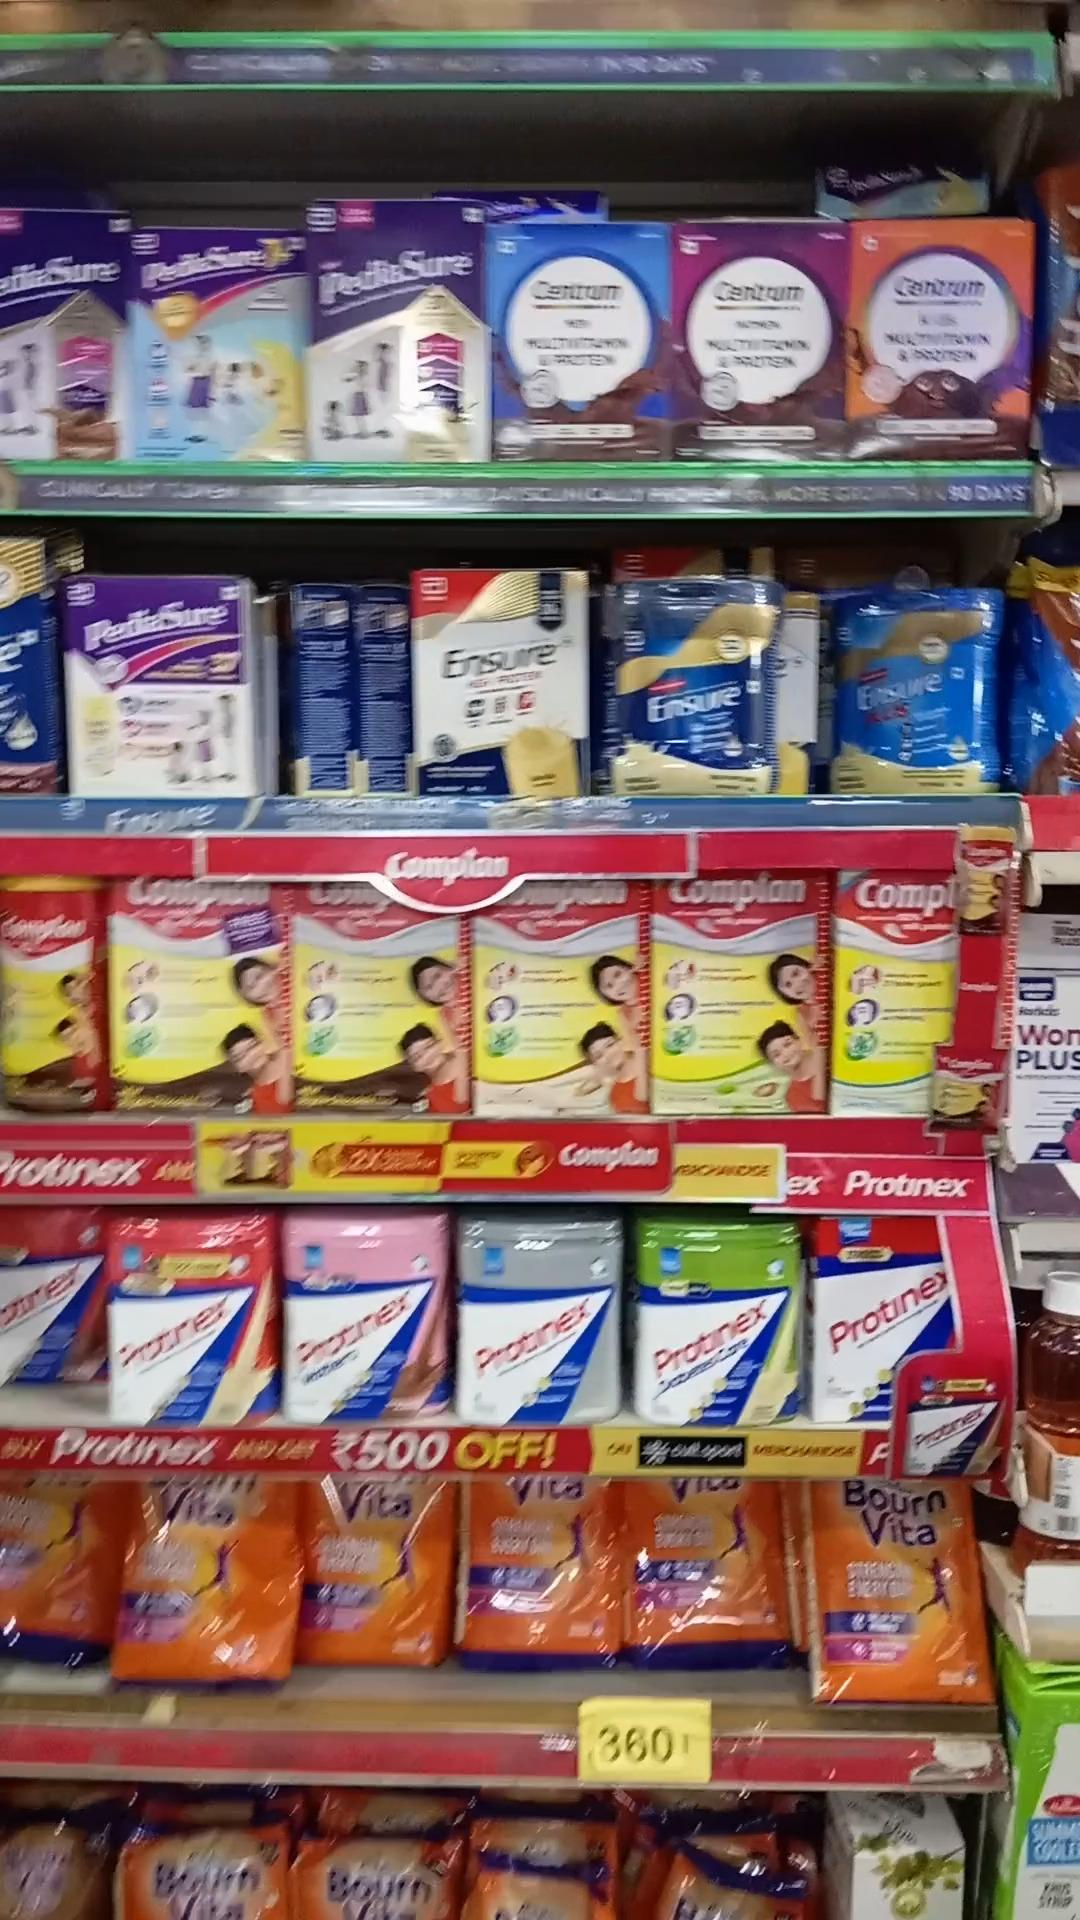BOURN_VITA_750_G_POUCH: (808, 1481, 990, 1702), (121, 1490, 289, 1692), (462, 1477, 620, 1665), (629, 1481, 785, 1667), (301, 1481, 446, 1662)
COMPLAN_CHOCOLATE_500_GMS_JAR: (1, 878, 105, 1113)
COMPLAN_CHOCOLATE_500_GMS_PACK: (109, 881, 293, 1106), (298, 884, 468, 1110)
COMPLAN_CREAMY_CLASSIC_500_G_PACK: (833, 872, 931, 1113)
COMPLAN_KESAR_BADAM_500_GMS_PACK: (475, 909, 649, 1118)
COMPLAN_PISTA_BADAM_500_GMS_PACK: (657, 882, 827, 1112)
ENSURE_VANILLA_400_G_PACK: (411, 570, 592, 798)
PEDIASURE_VANILLA_500_G_PACK: (313, 203, 488, 460)
PROTINEX_ORIGINAL_400_G_JAR: (455, 1221, 622, 1429)
PROTINEX_VANILLA_400_G_JAR: (111, 1220, 282, 1428)
